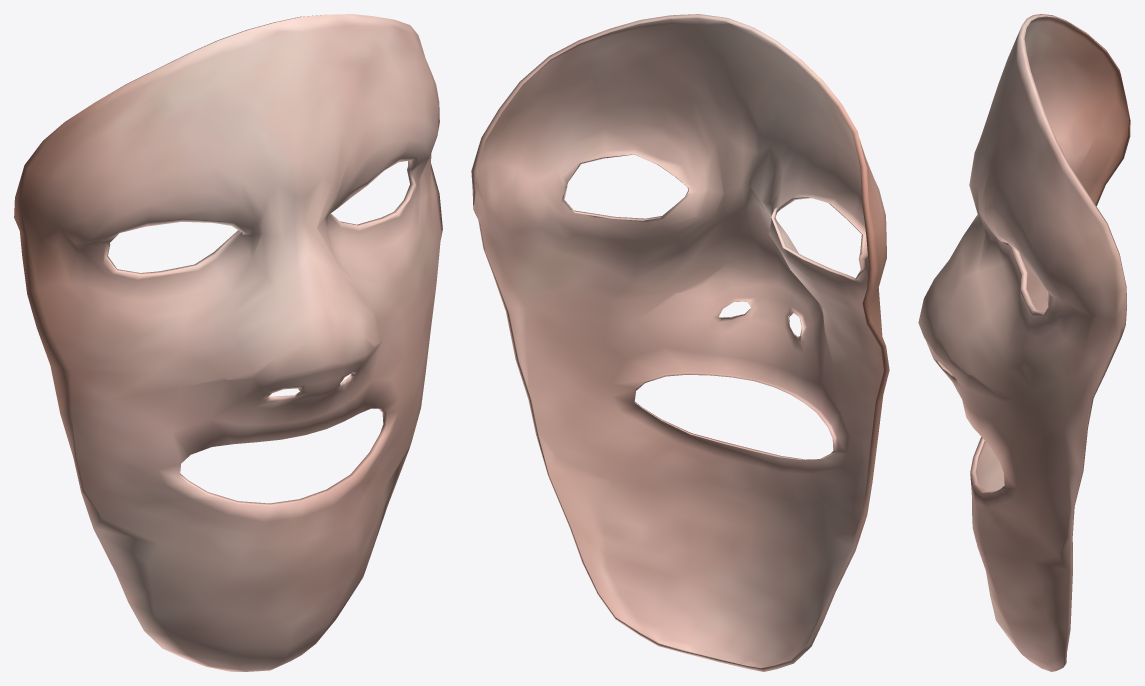
The model's file is mask.glb.
The picture shows the model from 3 angles, left to right: view 1: azimuth 30°, elevation 25°; view 2: azimuth 150°, elevation 25°; view 3: azimuth 270°, elevation 25°; orthographic projection. The views are drawn at different scales.
Parts seen in each view (by area): view 1: FaceMask; view 2: FaceMask; view 3: FaceMask.
Part boxes in pixels (x1,y1,x2,y2): FaceMask: [14, 14, 442, 671]; FaceMask: [471, 14, 889, 671]; FaceMask: [918, 14, 1130, 671].
Bounding box in the file's own units: 0.0864 × 0.1307 × 0.0406.
1 material, 1 textured.
